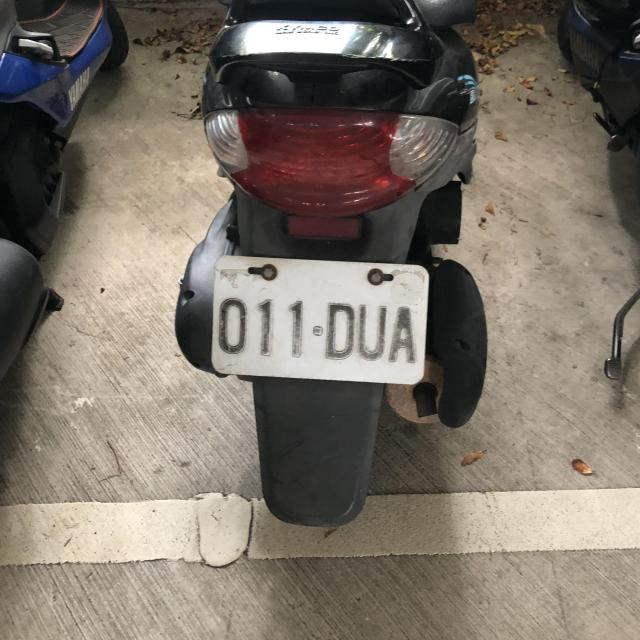W: (210, 252, 432, 386)
